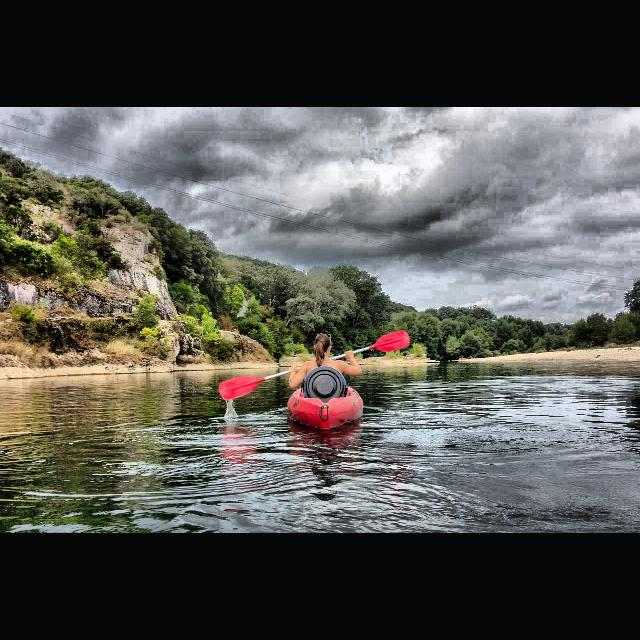kayak: (288, 382, 364, 432)
